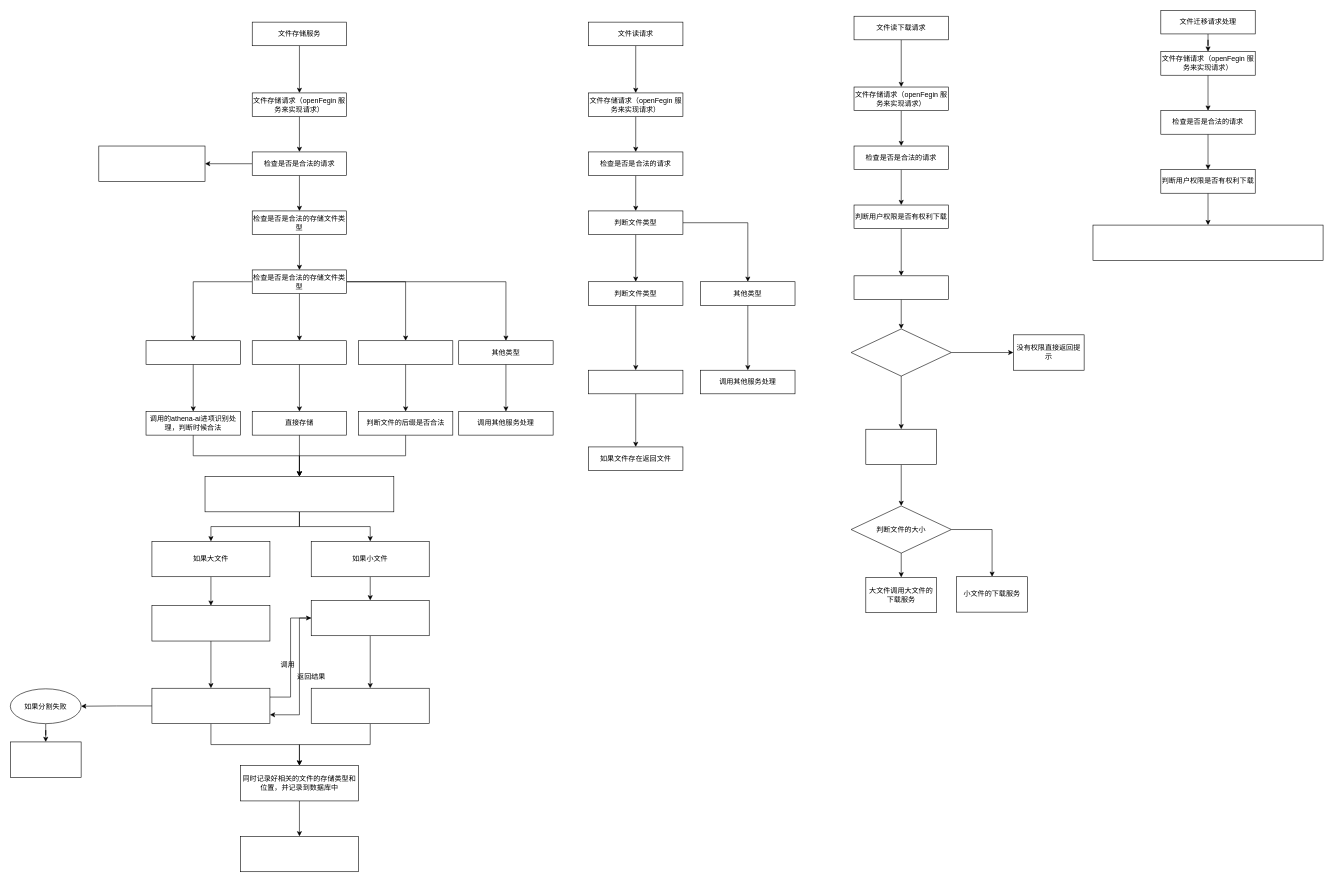
Some shapes in this 1333 by 882 pixel diagram are drawn without their labels. Here are the shapes that lost their labels. From the top down, the centre of each, then its label:
At point (151, 163): "主要检查IP和请求的类型是符合的规范（请求中不能有非法请求）".
At point (1207, 242): "https://blog.csdn.net/ITWANGBOIT/article/details/108147223".
At point (900, 287): "调用权限验证服务".
At point (192, 352): "如果是图片类型".
At point (299, 352): "如果是音频".
At point (405, 352): "如果是文本类型".
At point (900, 352): "判断是否有权限".
At point (635, 382): "查询文件是否存在".
At point (901, 447): "进行文件的下载".
At point (299, 494): "判断文件大小".
At point (210, 623): "需要的调用的大文件服务".
At point (370, 618): "直接调用的athena-sso存储服务".
At point (210, 706): "先解文件hash码 先切割成为小文件，同时生成对应的hash码。".
At point (370, 706): "调用的serviceimpl存储到FastDFS服务器上去。".
At point (45, 759): "需要进行重新分割，如果还是失败，将返回错误的结果".
At point (299, 854): "数据库".
